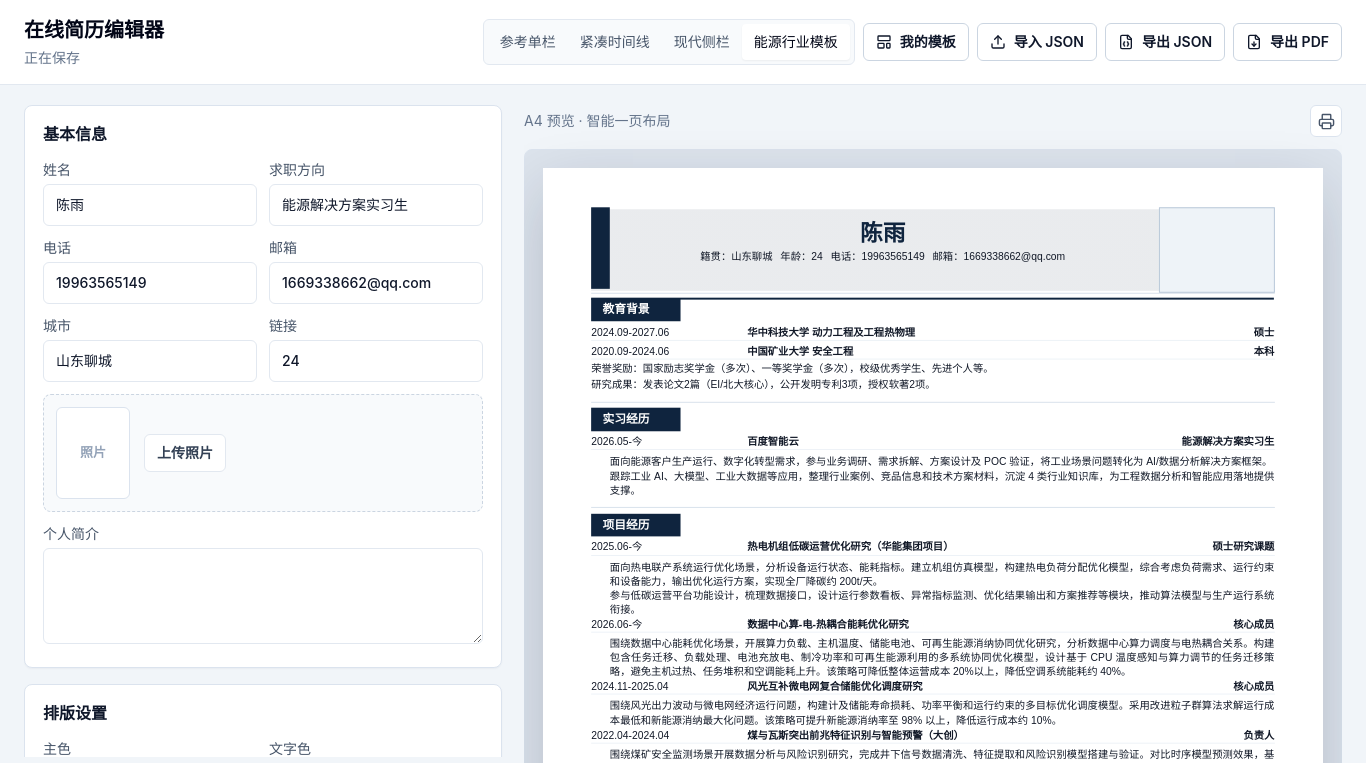
Test: resume builder app › shows the job intention label in the preview
The image size is (1366, 763).
Click the button "参考单栏". click: (528, 42)
box: [488,24,568,60]
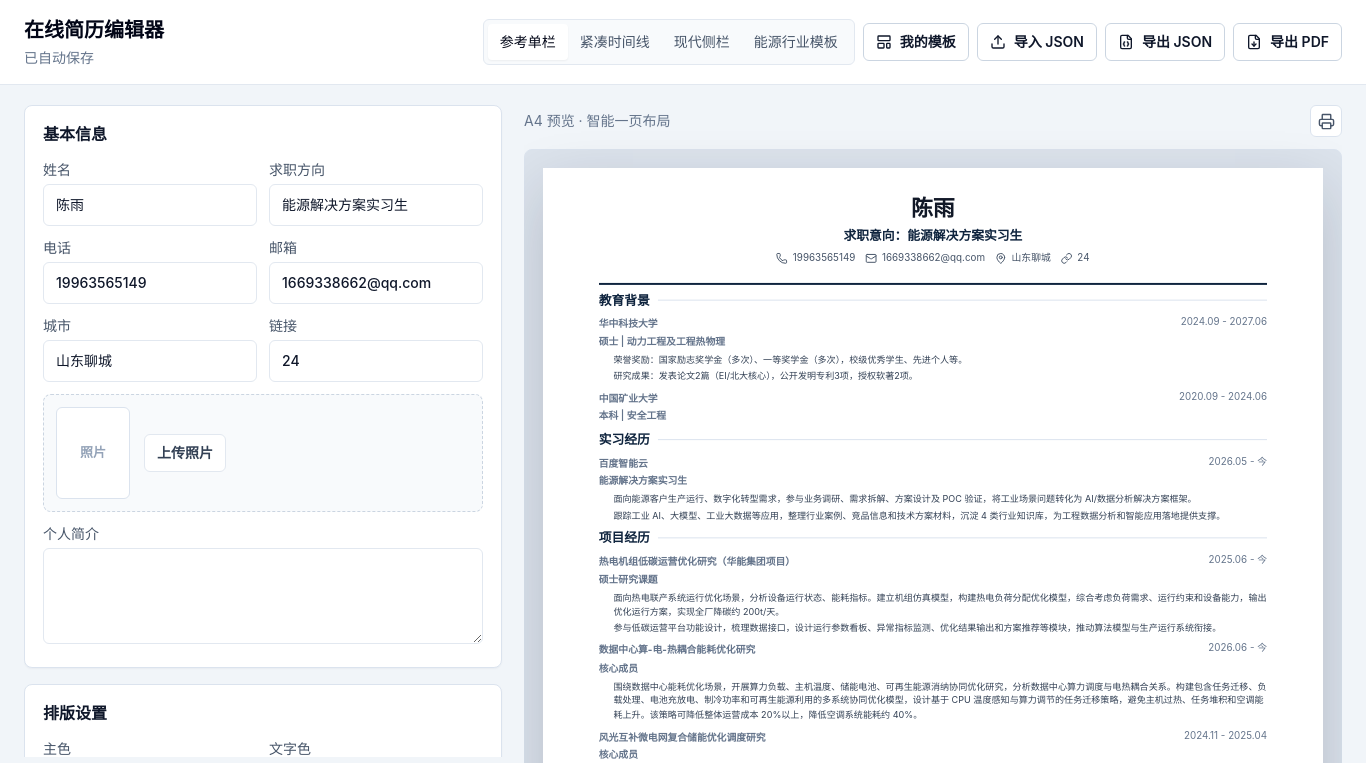
Expected: the text "求职意向：" is shown, [844,227,908,242]
